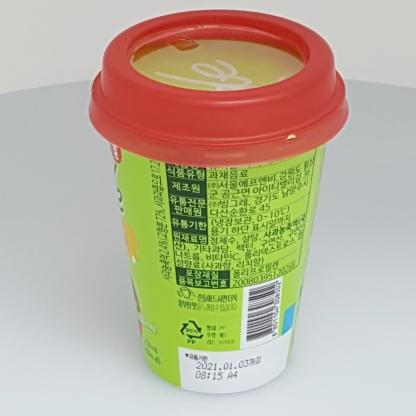--------: (88, 9, 348, 394)
